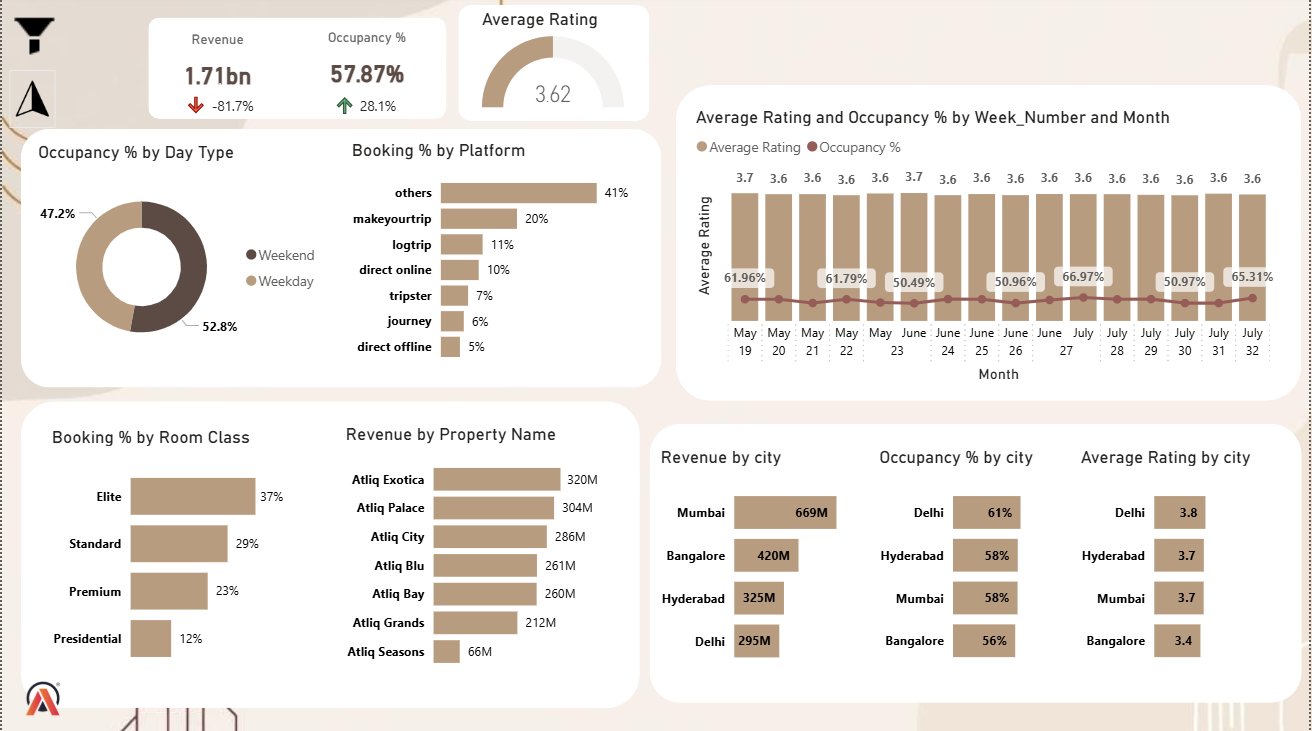

This screenshot's page, from the dashboard's own definition file:
{"tool":"powerbi","page":{"name":"Dashboard 2","canvas":[1280,720],"ordinal":2},"visuals":[{"type":"shape","box":[446.4,9.7,187,113.4],"z":0},{"type":"shape","box":[142.7,22.3,291.7,99.3],"z":1000},{"type":"shape","box":[633.1,419.6,638,273.1],"z":2000},{"type":"shape","box":[18.6,130.3,626.9,253.2],"z":3000},{"type":"shape","box":[658.8,88.3,612,309.1],"z":4000},{"type":"shape","box":[18.6,397.2,605.7,300.4],"z":5000},{"type":"gauge","fields":{"Y":["Key Measures.Average Rating"]},"box":[464.2,13.7,149,104.3],"z":6000},{"type":"clusteredBarChart","fields":{"Category":["dim_hotels.city"],"Y":["Key Measures.Revenue"]},"box":[639.5,441.4,228.7,229.9],"z":7000},{"type":"clusteredBarChart","fields":{"Category":["dim_hotels.city"],"Y":["Key Measures.Occupancy %"]},"box":[853,441.2,177.5,229.6],"z":8000},{"type":"clusteredBarChart","fields":{"Category":["dim_hotels.city"],"Y":["Key Measures.Average Rating"]},"box":[1050.4,441.2,191.2,229.6],"z":9000},{"type":"donutChart","title":"Occupancy % by Day Type","fields":{"Category":["dim_date.Weekday_Weekend"],"Y":["Key Measures.Occupancy %"]},"box":[31,142.7,289.2,227.2],"z":10000},{"type":"clusteredBarChart","title":"Booking % by Platform","fields":{"Category":["fact_bookings.booking_platform"],"Y":["Key Measures.Booking % by Platform"]},"box":[337.8,142.4,285.9,228],"z":11000},{"type":"lineClusteredColumnComboChart","fields":{"Category":["dim_date.Week_Number","dim_date.mmm yy.Variation.Date Hierarchy.Month"],"Y2":["Key Measures.Occupancy %"],"Y":["Key Measures.Average Rating"]},"box":[673.5,108.6,581.3,274.7],"z":12000},{"type":"card","title":"Revenue","fields":{"Values":["Key Measures.Revenue"]},"box":[149.9,35.3,121,72.3],"z":13000},{"type":"card","title":"Occupancy %","fields":{"Values":["Key Measures.Occupancy %"]},"box":[297.1,33.9,119.8,70.9],"z":14000},{"type":"tableEx","title":"test","fields":{"Values":["Key Measures.Revenue WOW% change"]},"box":[175,77,89.4,43.4],"z":15000},{"type":"tableEx","title":"test","fields":{"Values":["Key Measures.Occupancy WoW % change"]},"box":[320.3,77,74.5,41],"z":16000},{"type":"image","title":"filter","box":[7,13.9,48.7,52.9],"z":18000},{"type":"image","title":"navigation icon","box":[7.2,73.7,44.8,56.4],"z":19000},{"type":"clusteredBarChart","title":"Booking % by Room Class","fields":{"Category":["dim_rooms.room_class"],"Y":["Key Measures.Booking % by Room class"]},"box":[43.4,422.3,236.5,250.9],"z":21000},{"type":"clusteredBarChart","title":"Revenue by Property Name","fields":{"Category":["dim_hotels.property_name"],"Y":["Key Measures.Revenue"]},"box":[331.8,419.8,257,250.9],"z":22000},{"type":"image","box":[0,666,80.8,43.4],"z":23000}]}

Visuals, with their boxes in screenshot pixels (x1, y1, x2, y2), scaled from the page's 1280x720 canvas onto the 1312x731 screenshot:
shape: 458 10 649 125
shape: 146 23 445 123
shape: 649 426 1303 703
shape: 19 132 662 389
shape: 675 90 1303 403
shape: 19 403 640 708
gauge - Key Measures.Average Rating: 476 14 629 120
clusteredBarChart - dim_hotels.city x Key Measures.Revenue: 655 448 890 682
clusteredBarChart - dim_hotels.city x Key Measures.Occupancy %: 874 448 1056 681
clusteredBarChart - dim_hotels.city x Key Measures.Average Rating: 1077 448 1273 681
"Occupancy % by Day Type" donutChart: 32 145 328 376
"Booking % by Platform" clusteredBarChart: 346 145 639 376
lineClusteredColumnComboChart - dim_date.Week_Number x dim_date.mmm yy.Variation.Date Hierarchy.Month: 690 110 1286 389
"Revenue" card: 154 36 278 109
"Occupancy %" card: 305 34 427 106
"test" tableEx: 179 78 271 122
"test" tableEx: 328 78 405 120
"filter" image: 7 14 57 68
"navigation icon" image: 7 75 53 132
"Booking % by Room Class" clusteredBarChart: 44 429 287 683
"Revenue by Property Name" clusteredBarChart: 340 426 604 681
image: 0 676 83 720
